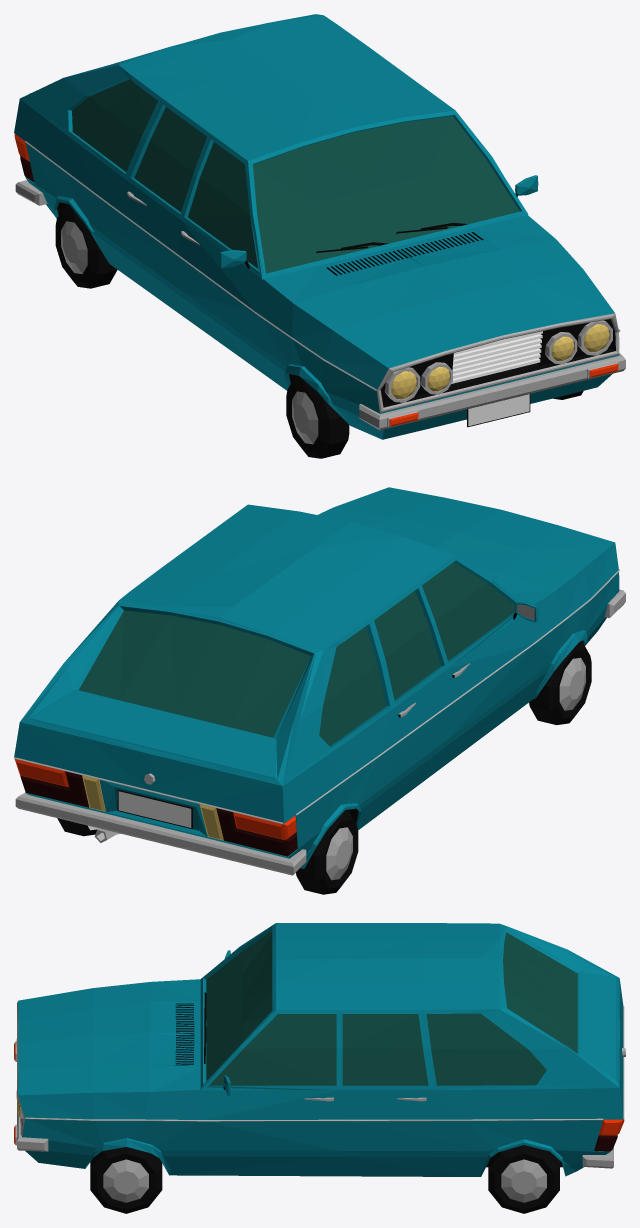
Rendered from SedanCar_03.FBX.
The picture shows the model from 3 angles, top to bottom: view 1: azimuth 30°, elevation 25°; view 2: azimuth 150°, elevation 25°; view 3: azimuth 270°, elevation 25°; orthographic projection. The views are drawn at different scales.
Parts seen in each view (by area): view 1: Sedan_03, bumper_f, wheel_f_l, wheel_b_r, headLights, lights, licensePlate_f; view 2: Sedan_03, bumper_b, wheel_b_r, wheel_f_l, taillights, licensePlate_b, backupLights, indicatorLights_r, indicatorLights_l; view 3: Sedan_03, wheel_b_l, wheel_f_r, bumper_f, bumper_b.
Part boxes in pixels (bbox=[...]): Sedan_03: bbox=[14, 14, 619, 439]; bumper_f: bbox=[359, 353, 625, 430]; wheel_f_l: bbox=[286, 375, 349, 458]; wheel_b_r: bbox=[55, 204, 117, 288]; headLights: bbox=[391, 324, 609, 399]; lights: bbox=[384, 320, 618, 427]; licensePlate_f: bbox=[467, 394, 530, 427]; Sedan_03: bbox=[14, 487, 620, 868]; bumper_b: bbox=[15, 792, 306, 875]; wheel_b_r: bbox=[296, 810, 358, 894]; wheel_f_l: bbox=[529, 641, 591, 725]; taillights: bbox=[20, 771, 297, 856]; licensePlate_b: bbox=[117, 789, 192, 828]; backupLights: bbox=[82, 775, 223, 840]; indicatorLights_r: bbox=[233, 812, 296, 840]; indicatorLights_l: bbox=[14, 759, 68, 786]; Sedan_03: bbox=[17, 923, 625, 1176]; wheel_b_l: bbox=[488, 1145, 559, 1213]; wheel_f_r: bbox=[90, 1147, 162, 1213]; bumper_f: bbox=[17, 1101, 48, 1151]; bumper_b: bbox=[582, 1147, 613, 1168].
Bounding box in the file's own units: 27.39 × 19.39 × 53.3.
